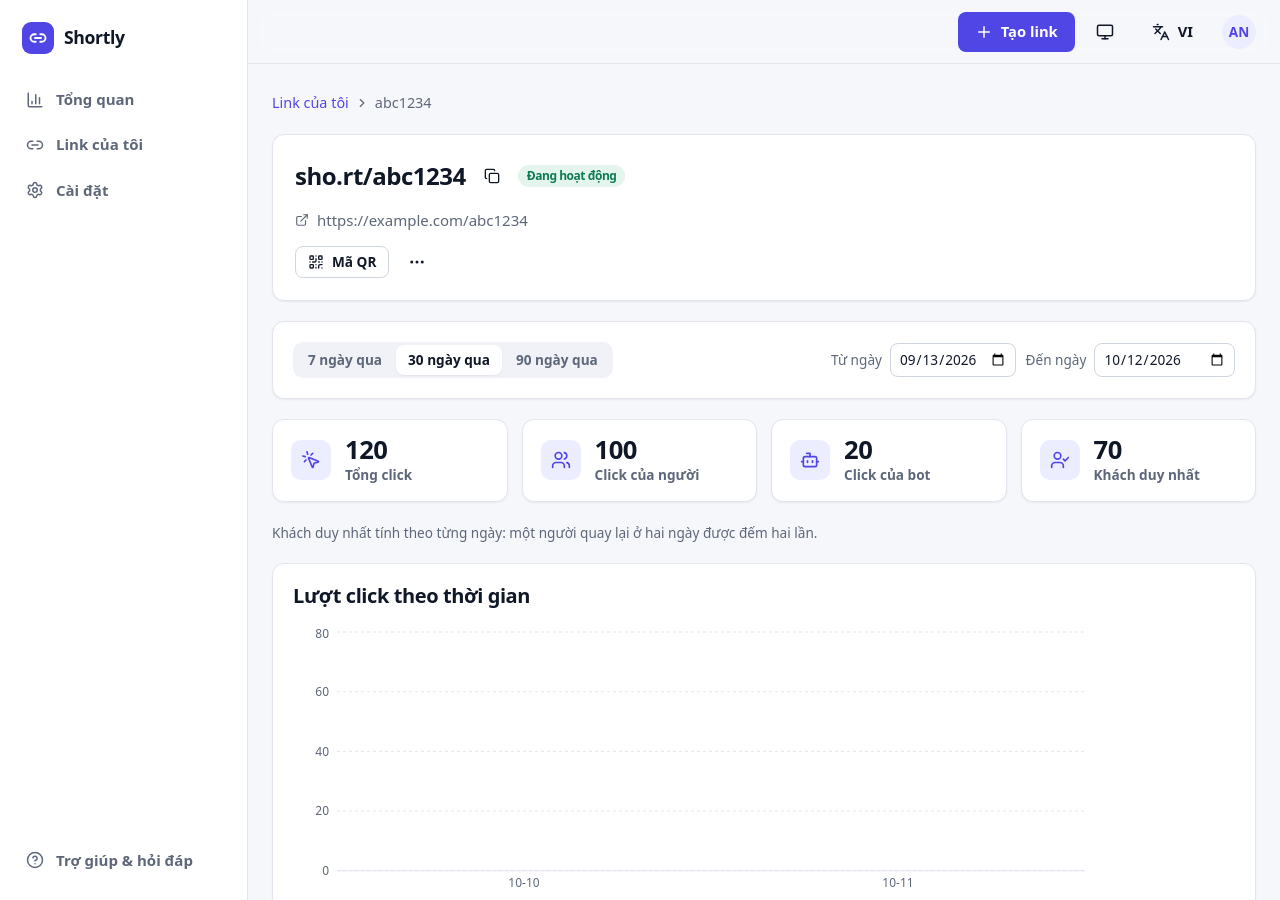
thao tác ngay trên trang chi tiết › tắt link đổi huy hiệu trạng thái
Expected: the link "sho.rt/abc1234" is shown, [295, 157, 466, 194]
Click the button named "Thêm thao tác": (417, 262) [401, 246, 433, 278]
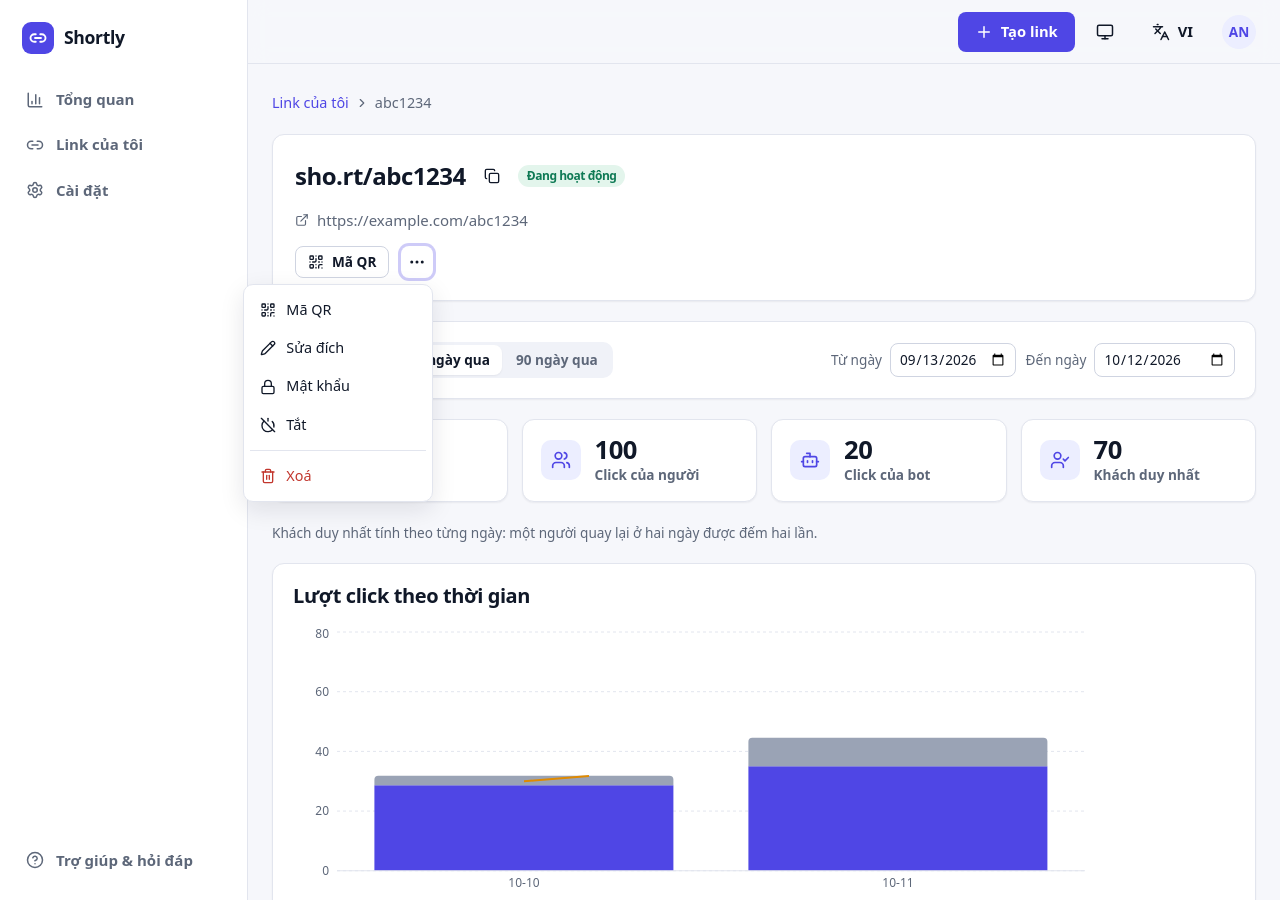
Click the menu item "Tắt": (338, 425) [250, 406, 426, 444]
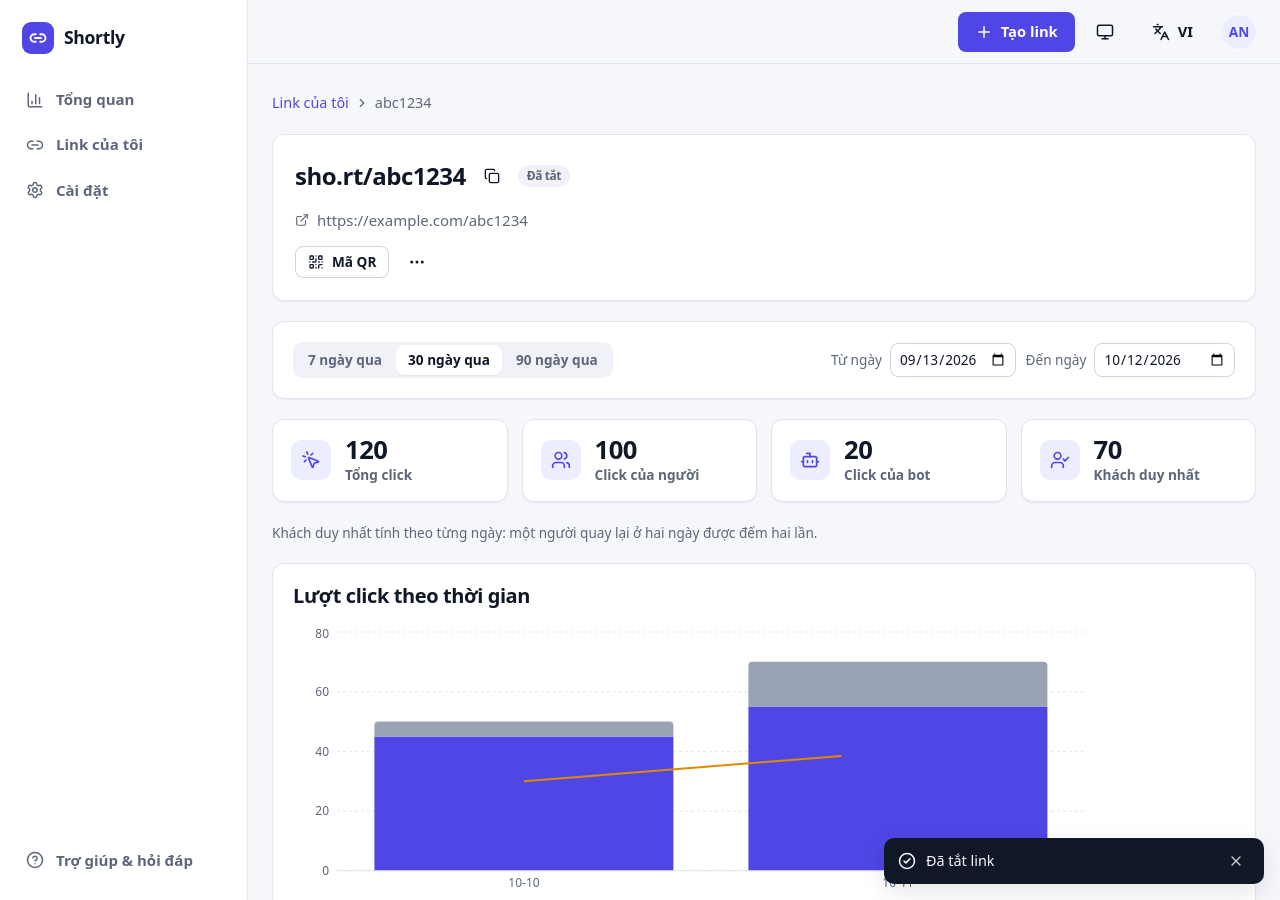
Expected: the text "Đã tắt" is shown, [518, 165, 570, 187]
